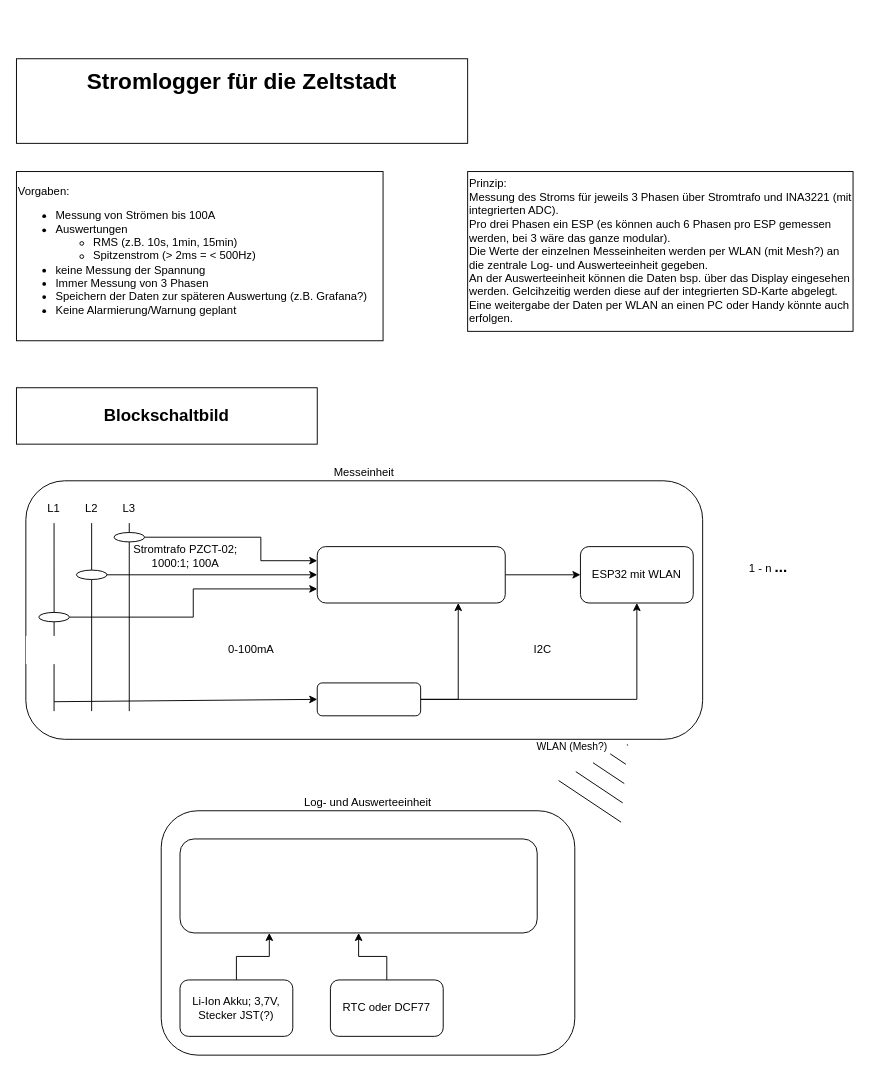
Image size: 870x1072. Some labels were removed from this diagram. Each missing label, with the centre of its shape:
0-100A: point (53, 649)
3-Phasiger Stromsensor INA3221; Shunt 0,1 Ohm; 13Bit ADC: point (410, 574)
Lilygo T5 V2.31; ESP32 mit WLAN; E-Paper-Disp 2,31"; SD-Karten-Slot: point (358, 885)
Netzteil 3,3V: point (368, 699)
